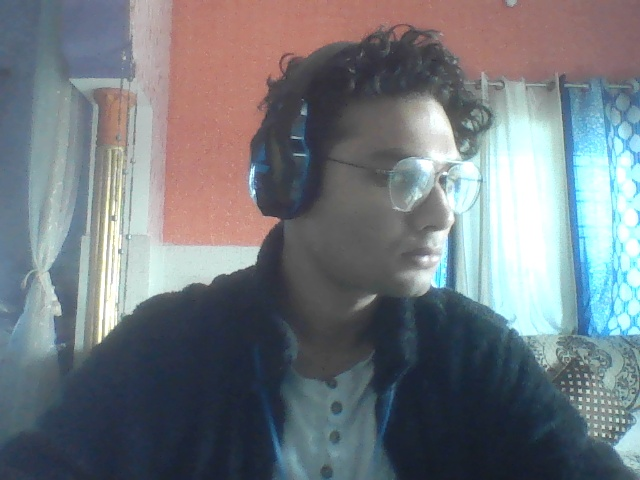real: (282, 38, 480, 318)
